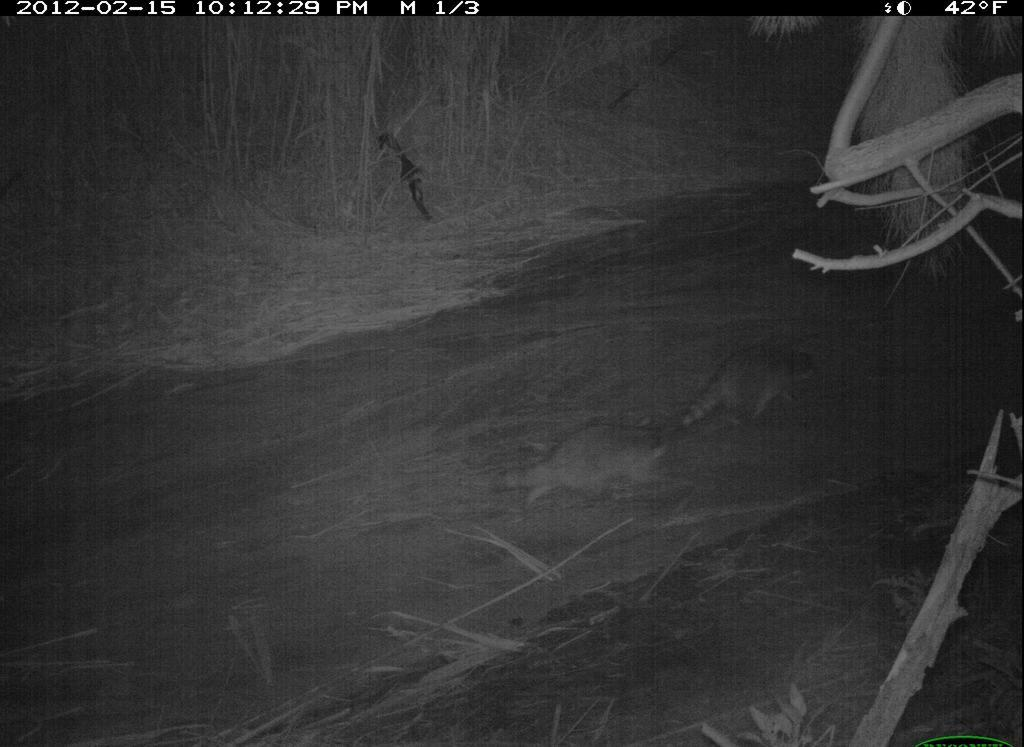raccoon: (482, 414, 696, 516), (678, 332, 831, 440)
